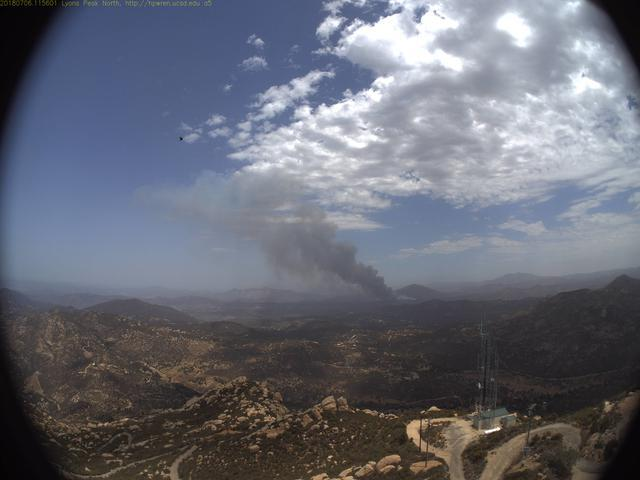smoke: (163, 165, 405, 314)
